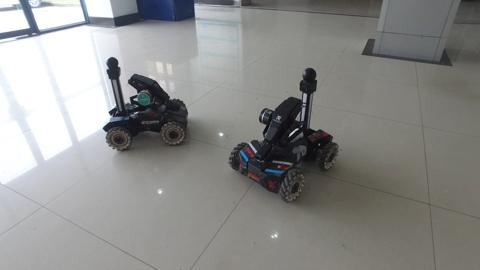chariot: (225, 66, 351, 204), (97, 52, 196, 157)
